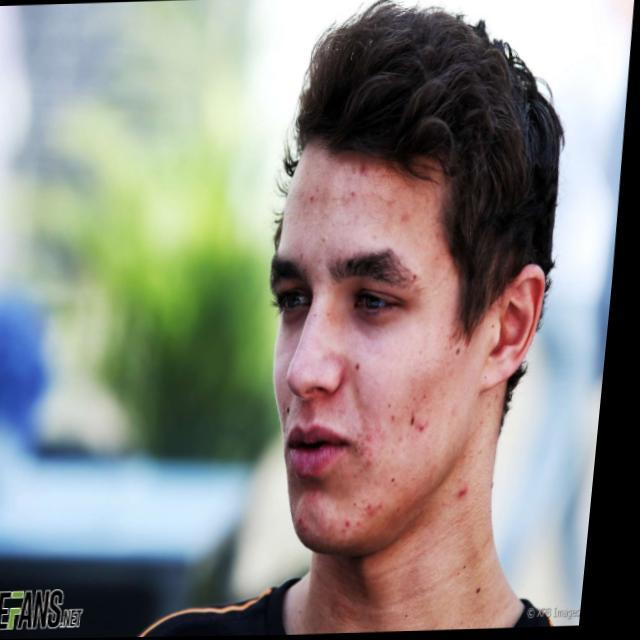Nonhelmet: (268, 0, 566, 425), (265, 147, 502, 558)
